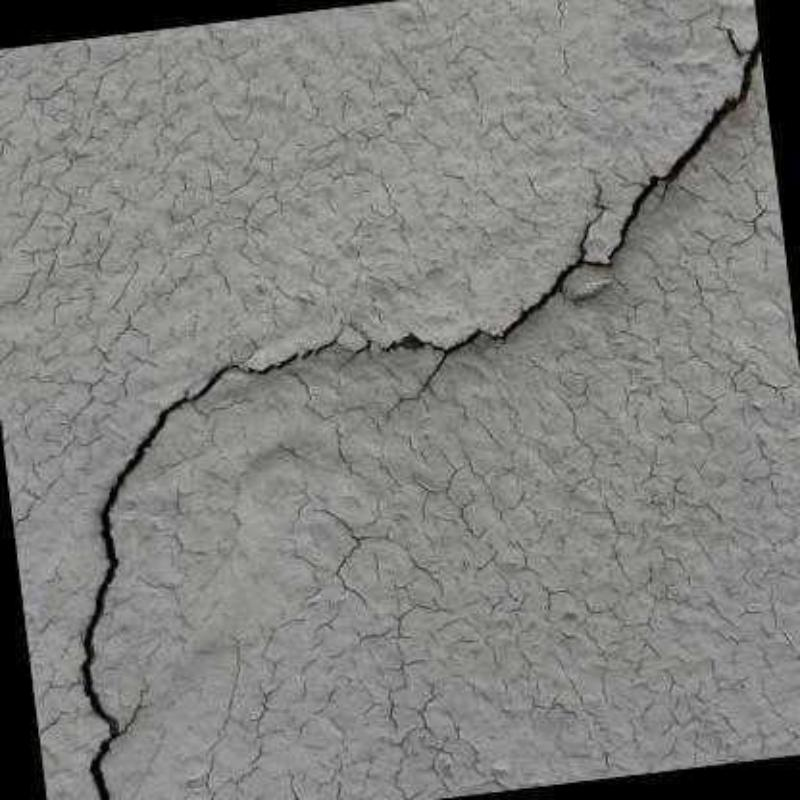crack: (376, 33, 760, 354), (73, 333, 337, 798), (390, 354, 448, 408), (579, 169, 606, 254), (717, 10, 752, 56), (117, 683, 148, 733), (328, 323, 373, 354)
